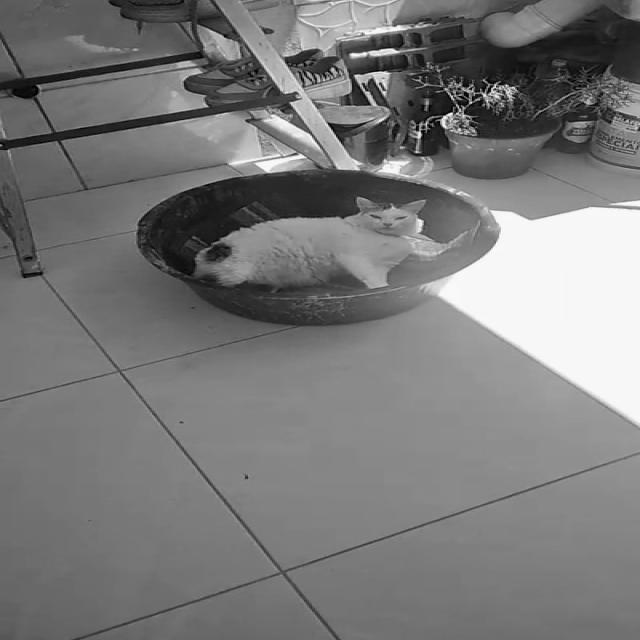Simba: (186, 189, 485, 291)
